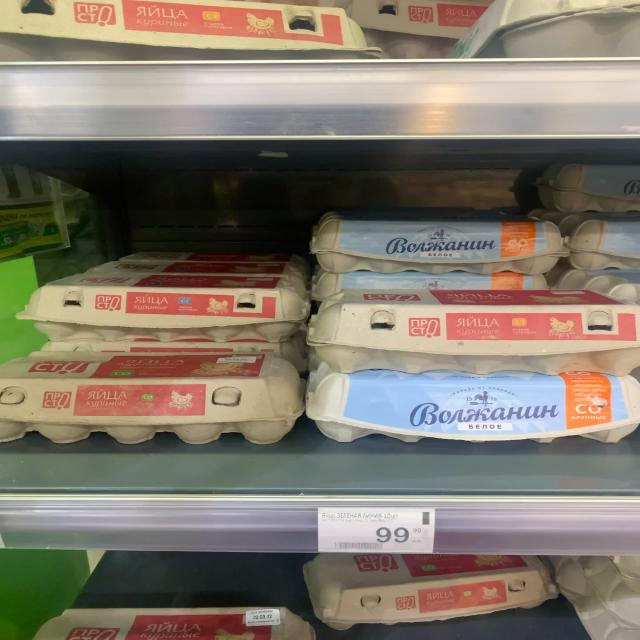egg box: (0, 348, 301, 443), (312, 286, 634, 368), (304, 371, 638, 444), (15, 270, 308, 348), (301, 553, 553, 624), (312, 213, 571, 270)
